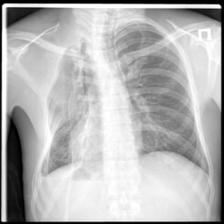tuberculosis: (38, 15, 214, 183)
